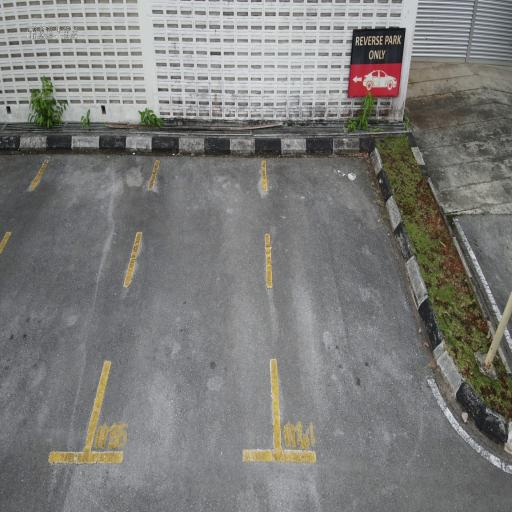Empty: (79, 142, 289, 476), (258, 132, 456, 466)
